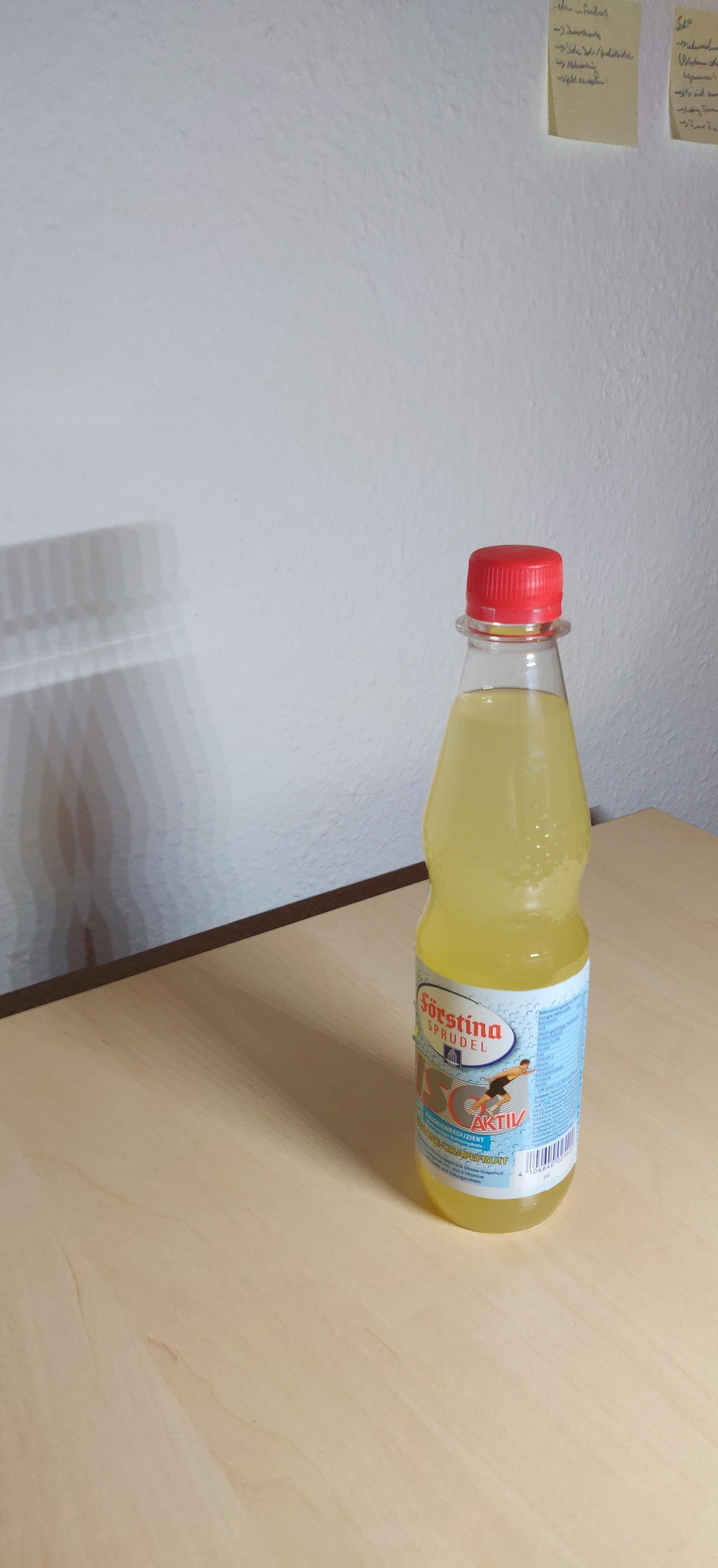bottle-plastic: (411, 538, 605, 1232)
